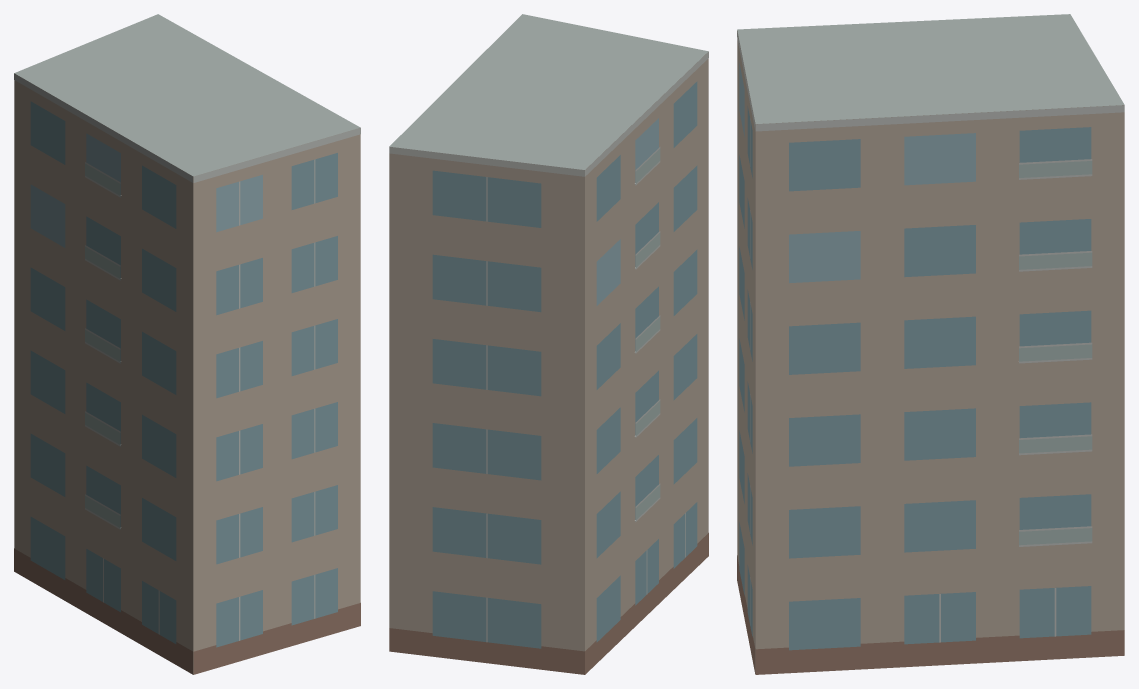
File: survey-upis-33021452.glb
3 views of the same model, side by side, from view 1: azimuth 30°, elevation 25°; view 2: azimuth 150°, elevation 25°; view 3: azimuth 270°, elevation 25° (orthographic). The views are drawn at different scales.
Parts seen in each view (by area): view 1: survey-upis-33021452.tmp; view 2: survey-upis-33021452.tmp; view 3: survey-upis-33021452.tmp.
Boxes of the visible parts, left/top/right/bottom form: survey-upis-33021452.tmp: left=14, top=14, right=360, bottom=674; survey-upis-33021452.tmp: left=389, top=14, right=708, bottom=674; survey-upis-33021452.tmp: left=737, top=14, right=1124, bottom=674.
Size of the model in its own units: 7.86 by 18.3 by 11.68.
